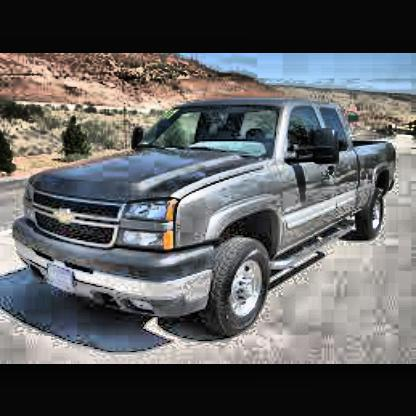Chevrolet Silverado 1500 Classic Extended Cab 2007: (12, 98, 400, 342)
